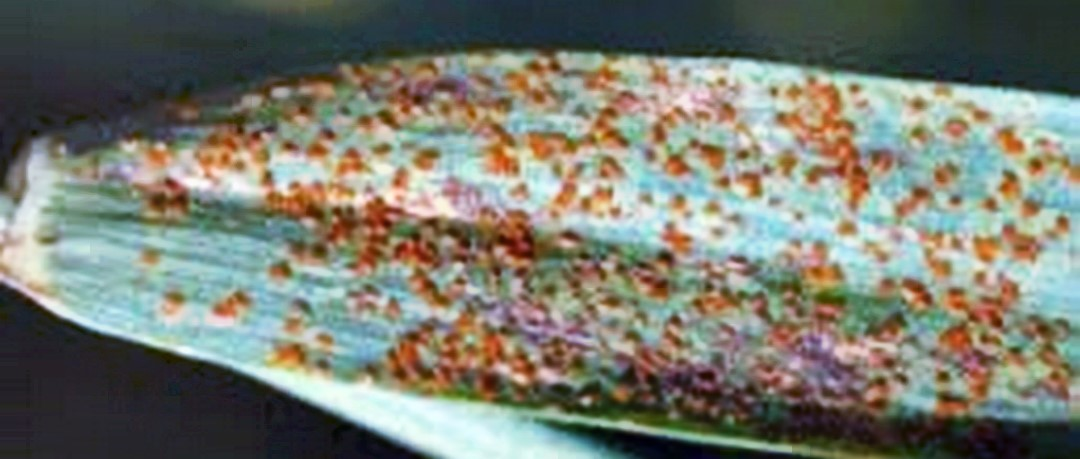Leaf Rust: (262, 70, 980, 446)
